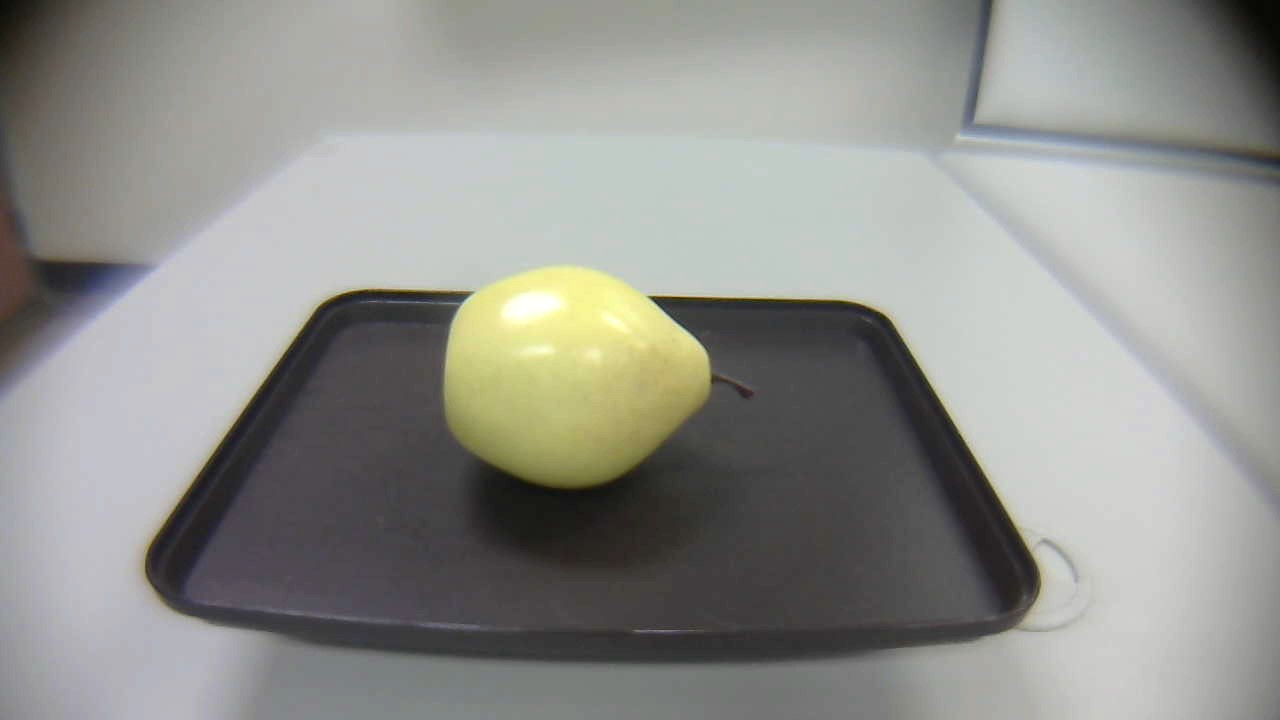western pear: (436, 266, 764, 492)
